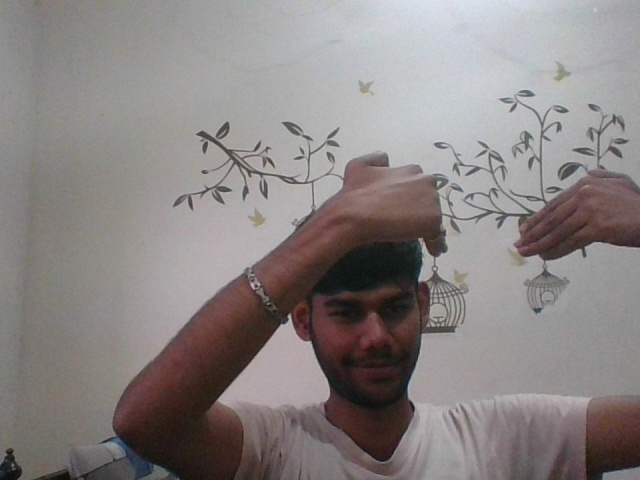I am Utkarsh: (329, 129, 627, 300)
